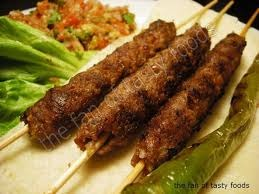kebap: (21, 20, 175, 147), (75, 24, 210, 153), (131, 33, 245, 174)
